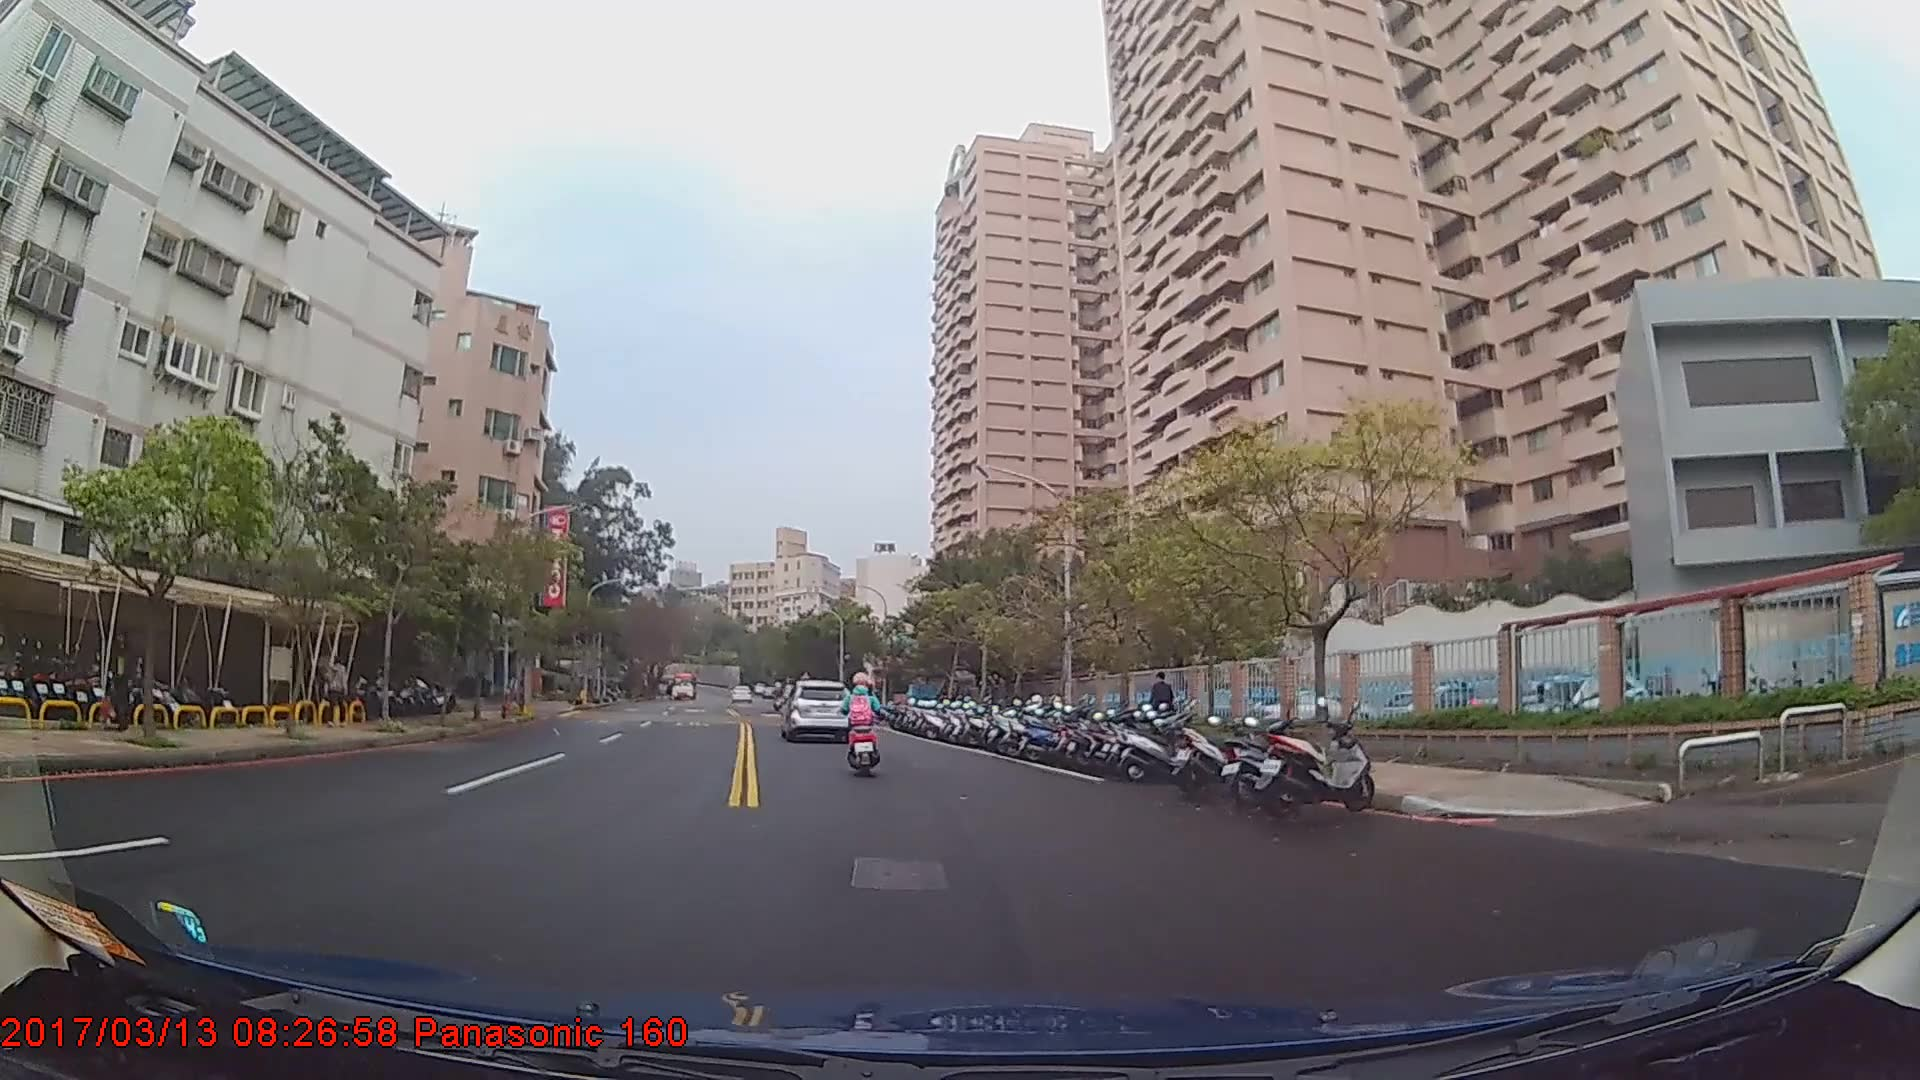pedestrian: (104, 622, 142, 730), (324, 650, 351, 729), (1150, 672, 1178, 745)
rider: (845, 667, 886, 769)
vehicle: (780, 678, 851, 741), (667, 667, 699, 697)
